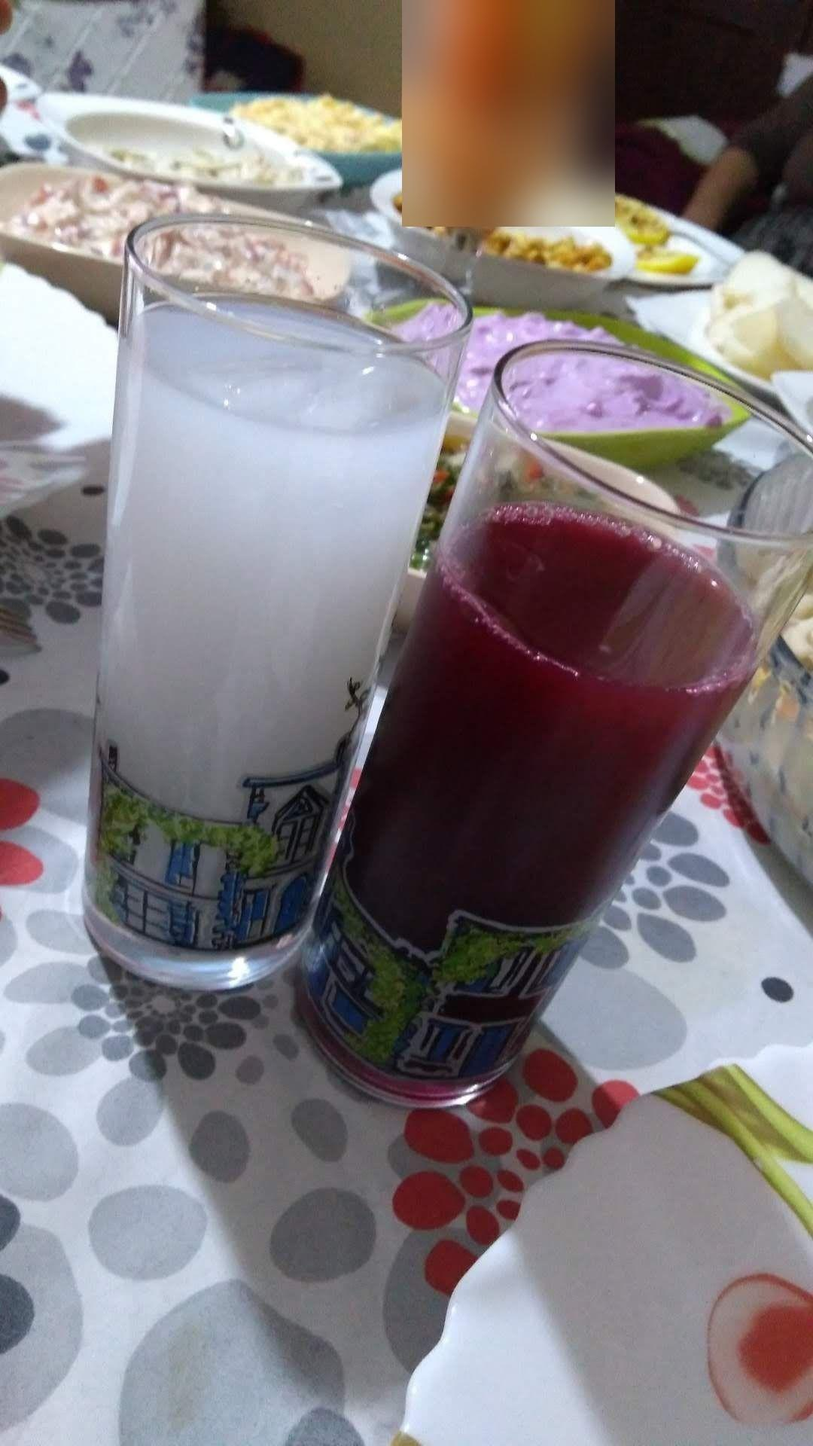glass-normal: (295, 339, 812, 1112), (77, 211, 470, 996)
